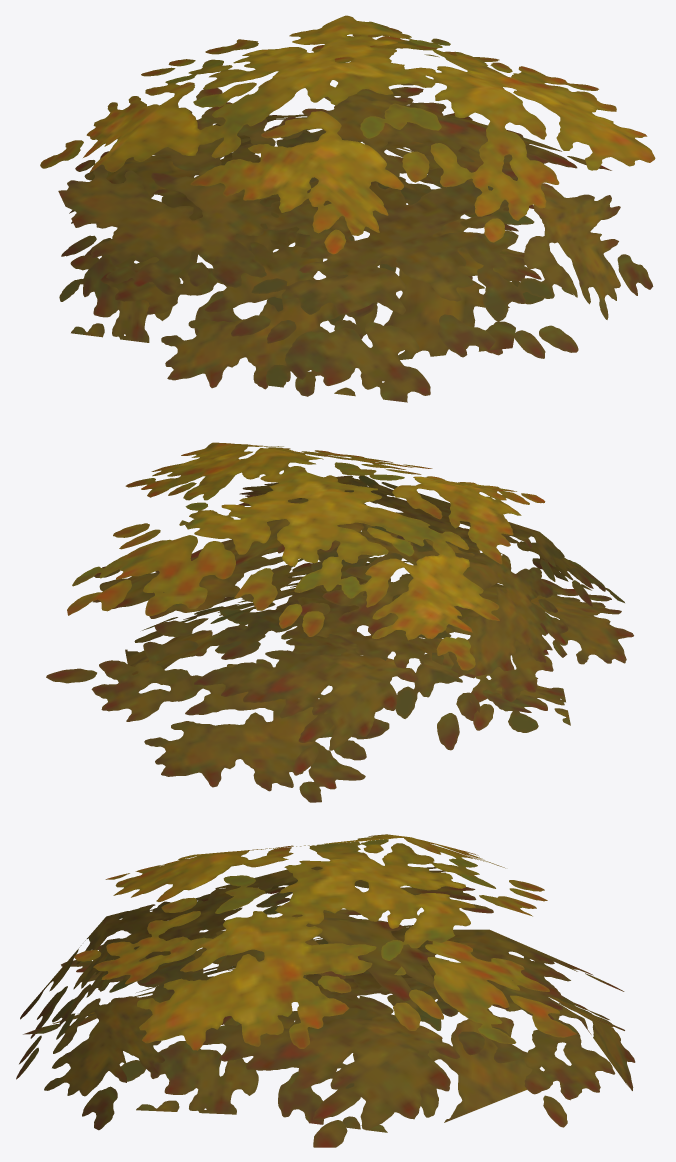
3 views of the same model, one above another, from view 1: azimuth 30°, elevation 25°; view 2: azimuth 150°, elevation 25°; view 3: azimuth 270°, elevation 25° (orthographic). The views are drawn at different scales.
Visible parts, largest first — view 1: MS0002_02_03_01; view 2: MS0002_02_03_01; view 3: MS0002_02_03_01.
Boxes of the visible parts, bbox=[...] form: MS0002_02_03_01: bbox=[40, 15, 655, 402]; MS0002_02_03_01: bbox=[46, 442, 633, 802]; MS0002_02_03_01: bbox=[16, 834, 635, 1147].
Bounding box in the file's own units: 2.69 × 1 × 2.84.
